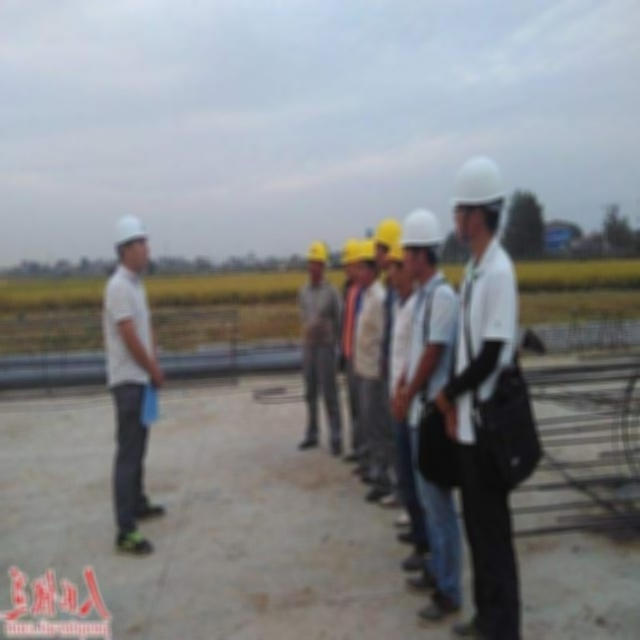Con_Casco: (448, 155, 507, 249)
Sin_Chaleco: (455, 249, 517, 448)
